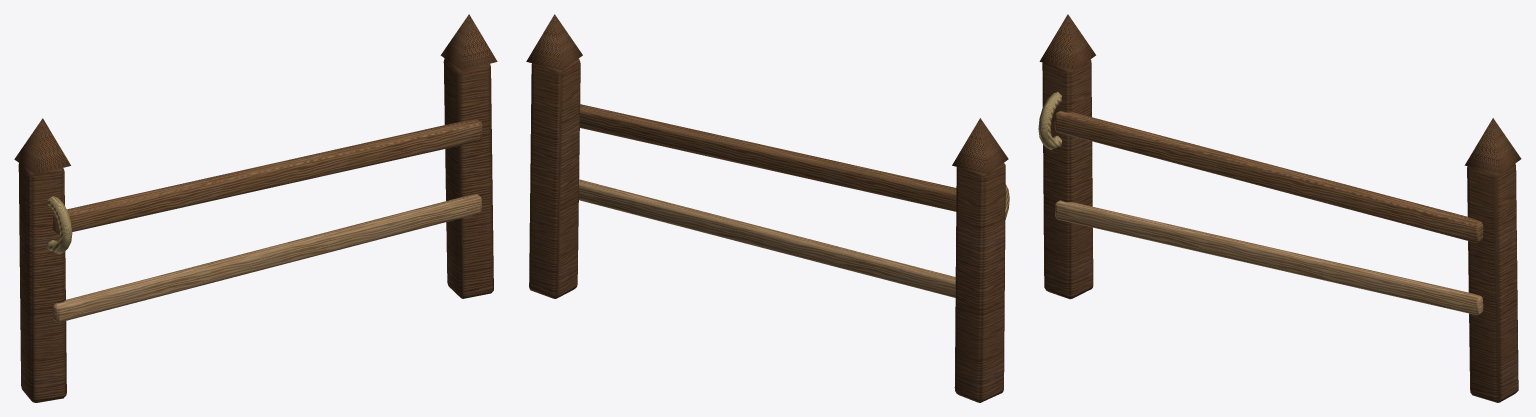
File: fence_section_2m.glb
The picture shows the model from 3 angles, left to right: view 1: azimuth 30°, elevation 25°; view 2: azimuth 150°, elevation 25°; view 3: azimuth 330°, elevation 25°; orthographic projection.
Parts seen in each view (by area): view 1: fence_section_2m_Wood_Dark, fence_section_2m_Wood_Plank, fence_section_2m_Wood_Light, fence_section_2m_Rope; view 2: fence_section_2m_Wood_Dark, fence_section_2m_Wood_Plank, fence_section_2m_Wood_Light; view 3: fence_section_2m_Wood_Dark, fence_section_2m_Wood_Plank, fence_section_2m_Wood_Light, fence_section_2m_Rope.
Part boxes in pixels (box(x1,y1,x2,y2)): fence_section_2m_Wood_Dark: box(14, 14, 497, 402); fence_section_2m_Wood_Plank: box(52, 119, 482, 234); fence_section_2m_Wood_Light: box(52, 194, 481, 322); fence_section_2m_Rope: box(47, 196, 72, 254); fence_section_2m_Wood_Dark: box(526, 14, 1008, 402); fence_section_2m_Wood_Plank: box(580, 104, 956, 211); fence_section_2m_Wood_Light: box(579, 179, 955, 297); fence_section_2m_Wood_Dark: box(1039, 14, 1521, 402); fence_section_2m_Wood_Plank: box(1054, 110, 1483, 242); fence_section_2m_Wood_Light: box(1055, 200, 1483, 315); fence_section_2m_Rope: box(1038, 92, 1061, 149).
Bounding box in the file's own units: 2.19 × 1.25 × 0.3048.
Materials: 4 (4 with a texture image).
